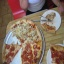pepperoni: (4, 45, 16, 58), (51, 49, 63, 61), (22, 43, 31, 58), (32, 42, 37, 51)
pizza: (1, 20, 44, 64)
